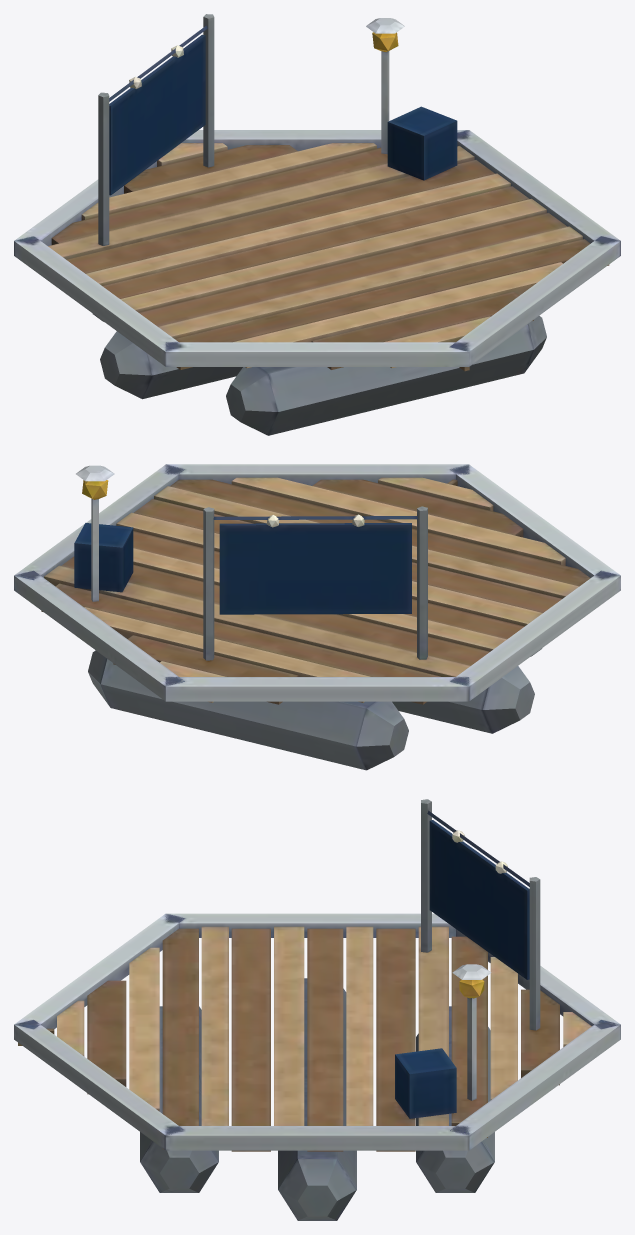
The model's file is raft-b-age20-lite.glb.
The picture shows the model from 3 angles, top to bottom: view 1: azimuth 30°, elevation 25°; view 2: azimuth 150°, elevation 25°; view 3: azimuth 270°, elevation 25°; orthographic projection.
Parts seen in each view (by area): view 1: raft-b-age20-lite; view 2: raft-b-age20-lite; view 3: raft-b-age20-lite.
Part boxes in pixels (x1,y1,x2,y2): raft-b-age20-lite: (14, 14, 620, 435); raft-b-age20-lite: (14, 464, 620, 770); raft-b-age20-lite: (14, 799, 620, 1220).
Bounding box in the file's own units: 1.6 × 0.8439 × 1.85.
Materials: 1 (1 with a texture image).
